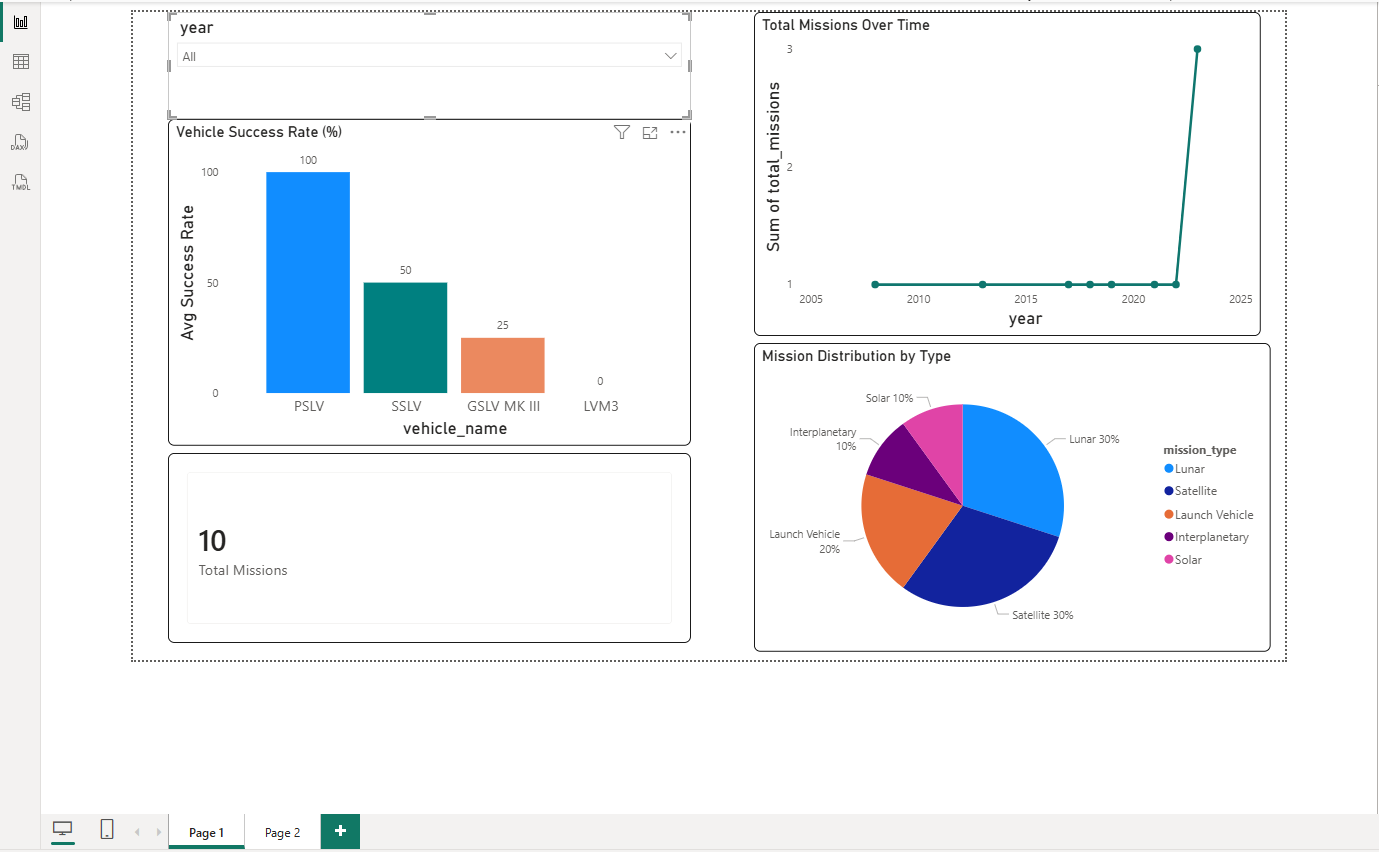

This screenshot's page, from the dashboard's own definition file:
{"tool":"powerbi","page":{"name":"Page 1","canvas":[1280,720],"ordinal":0},"visuals":[{"type":"columnChart","title":"Vehicle Success Rate (%)","fields":{"Category":["Join.vehicle_name"],"Y":["Join.Avg Success Rate"]},"box":[38.8,118.8,581.2,362.5],"z":0},{"type":"lineChart","title":"Total Missions Over Time","fields":{"Category":["year.year"],"Y":["Sum(year.total_missions)"]},"box":[690,0,562.5,360],"z":1000},{"type":"pieChart","title":"Mission Distribution by Type","fields":{"Category":["mission_type.mission_type"],"Y":["Sum(mission_type.total)"]},"box":[690,367.5,573.8,342.5],"z":2000},{"type":"slicer","fields":{"Values":["year.year"]},"box":[38.8,0,581.2,118.8],"z":3000},{"type":"cardVisual","fields":{"Data":["year.Total Missions"]},"box":[38.8,490,581.2,211.2],"z":3001}]}

Visuals, with their boxes on the page's 1280x720 design canvas (x1, y1, x2, y2). These are canvas units, not pixel positions in the 1379x852 screenshot, which may show the page scaled, cropped or inside an application window:
"Vehicle Success Rate (%)" columnChart: (x1=39, y1=119, x2=620, y2=481)
"Total Missions Over Time" lineChart: (x1=690, y1=0, x2=1252, y2=360)
"Mission Distribution by Type" pieChart: (x1=690, y1=368, x2=1264, y2=710)
slicer - year.year: (x1=39, y1=0, x2=620, y2=119)
cardVisual - year.Total Missions: (x1=39, y1=490, x2=620, y2=701)
